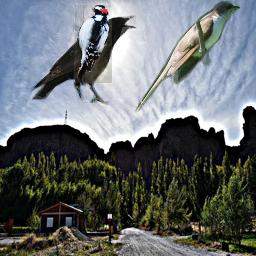Crow: (30, 14, 138, 107)
Cuckoo: (135, 1, 240, 113)
Woodpecker: (73, 5, 112, 83)
